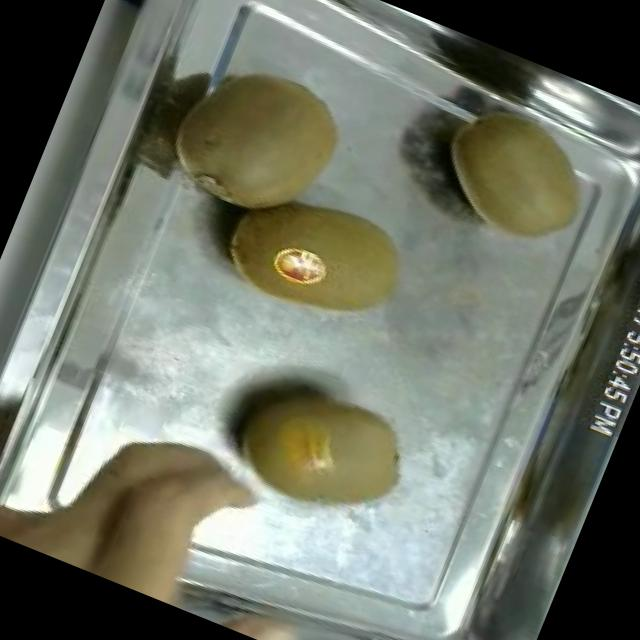Fruit: (51, 401, 279, 623), (146, 34, 370, 250), (207, 348, 430, 544), (205, 162, 428, 352), (414, 81, 614, 267), (188, 571, 336, 640)
